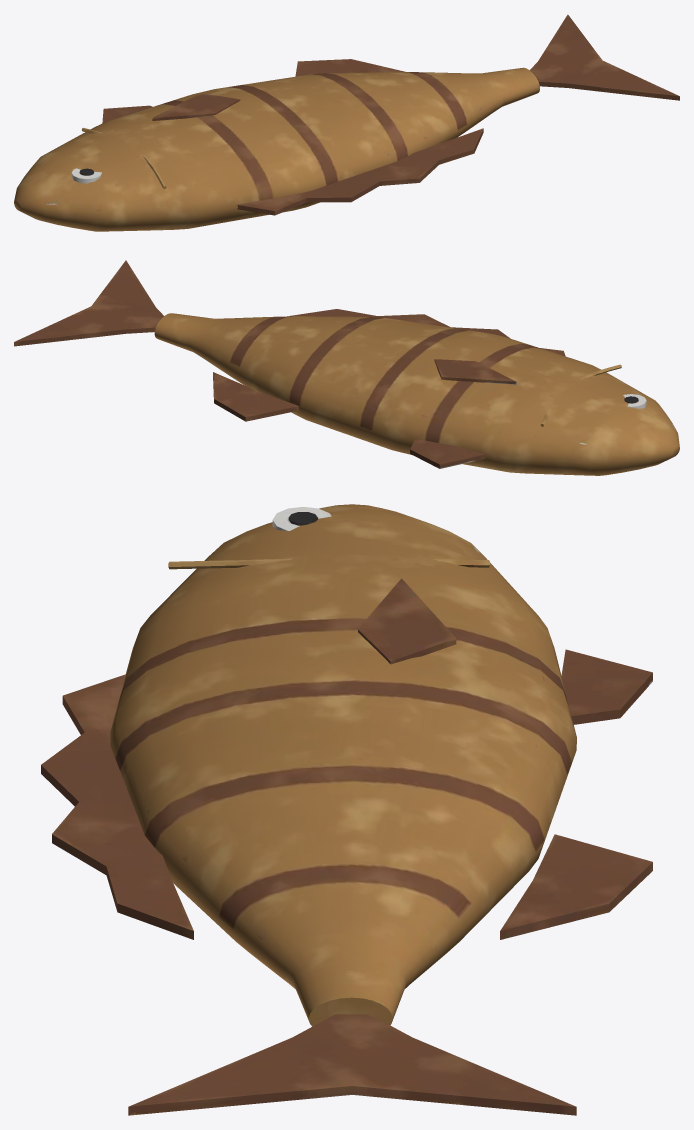
The model's file is peixe_assado.glb.
The picture shows the model from 3 angles, top to bottom: view 1: azimuth 30°, elevation 25°; view 2: azimuth 150°, elevation 25°; view 3: azimuth 270°, elevation 25°; orthographic projection. The views are drawn at different scales.
Parts seen in each view (by area): view 1: corpo, nadadeiras, olho; view 2: corpo, nadadeiras, olho; view 3: corpo, nadadeiras, olho.
Boxes of the visible parts, left/top/right/bottom form: corpo: left=14, top=67, right=539, bottom=231; nadadeiras: left=102, top=14, right=679, bottom=215; olho: left=71, top=127, right=166, bottom=188; corpo: left=154, top=313, right=679, bottom=475; nadadeiras: left=14, top=260, right=565, bottom=468; olho: left=540, top=364, right=646, bottom=426; corpo: left=110, top=504, right=576, bottom=1026; nadadeiras: left=41, top=578, right=652, bottom=1115; olho: left=168, top=507, right=489, bottom=569.
Bounding box in the file's own units: 0.256 × 0.034 × 0.112.
Materials: 1 (1 with a texture image).
